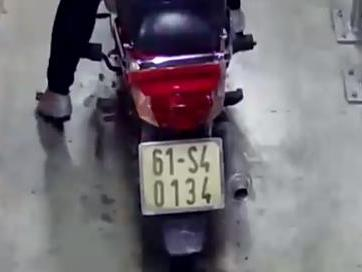num_plate: (138, 139, 224, 213)
